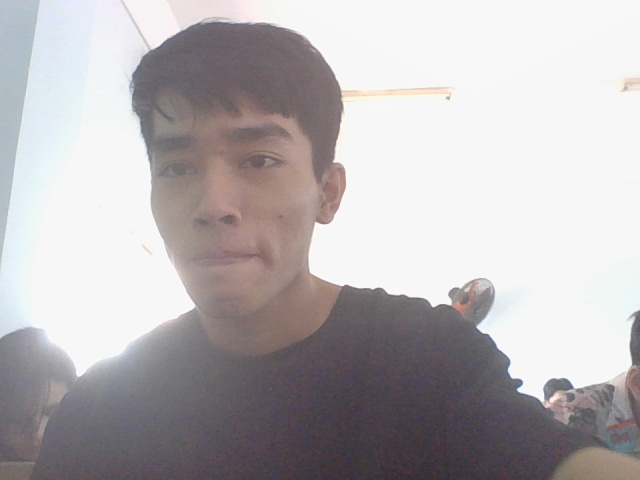real: (123, 2, 355, 331)
